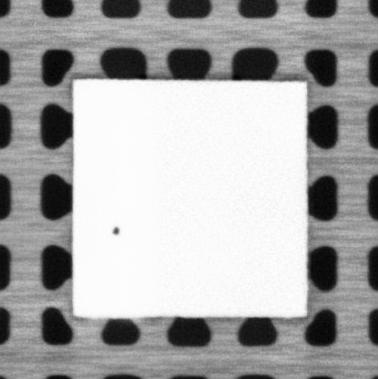DIE_INK: (111, 224, 121, 236)
